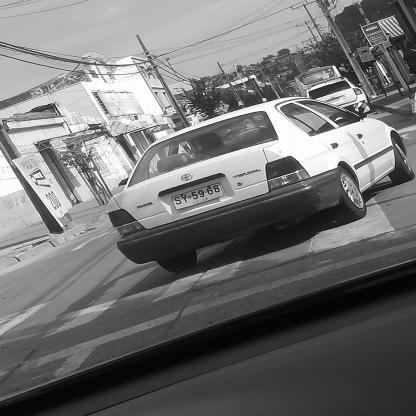Patente: (169, 182, 228, 211)
